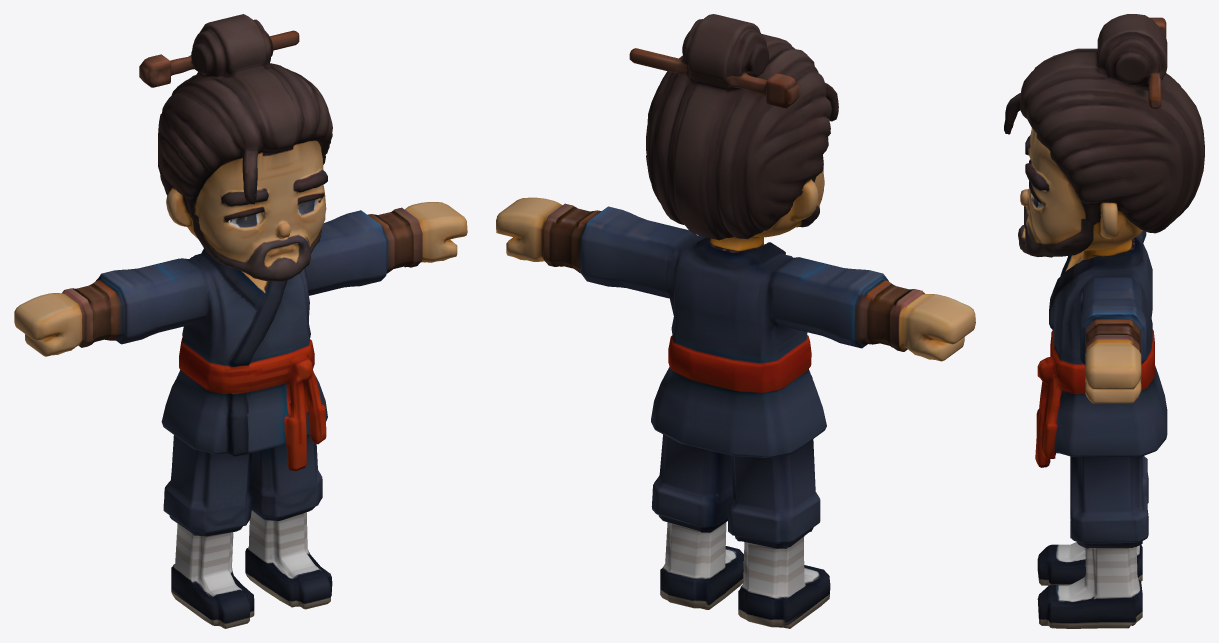
File: Innkeeper.fbx
The picture shows the model from 3 angles, left to right: view 1: azimuth 30°, elevation 25°; view 2: azimuth 150°, elevation 25°; view 3: azimuth 270°, elevation 25°; orthographic projection. The views are drawn at different scales.
Visible parts, largest first — view 1: tripo_node_536102c2; view 2: tripo_node_536102c2; view 3: tripo_node_536102c2.
Part boxes in pixels (x1,y1,x2,y2): tripo_node_536102c2: (14,14,467,628); tripo_node_536102c2: (496,14,975,628); tripo_node_536102c2: (1004,14,1204,628).
Size of the model in its own units: 79.1 by 30.84 by 97.87.
1 material, 1 textured.
